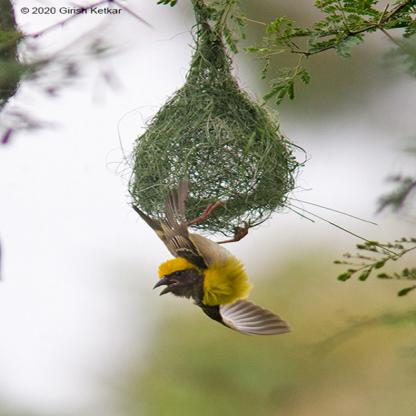Burung: (132, 179, 290, 336)
